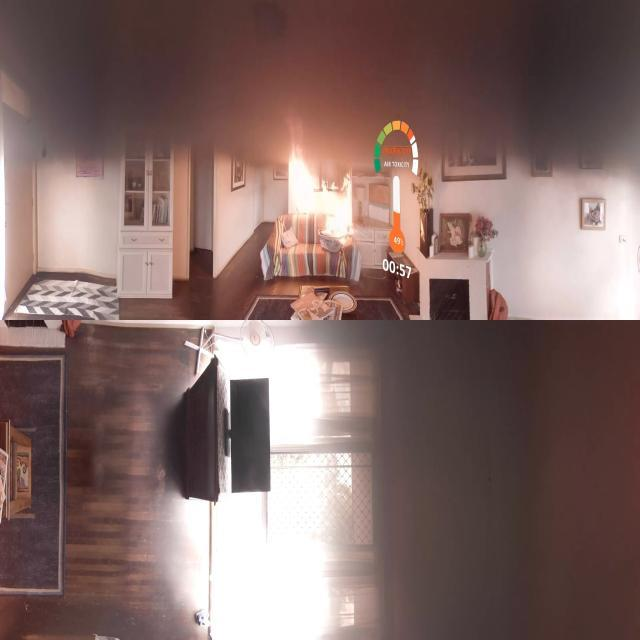Fire: (265, 97, 389, 300)
